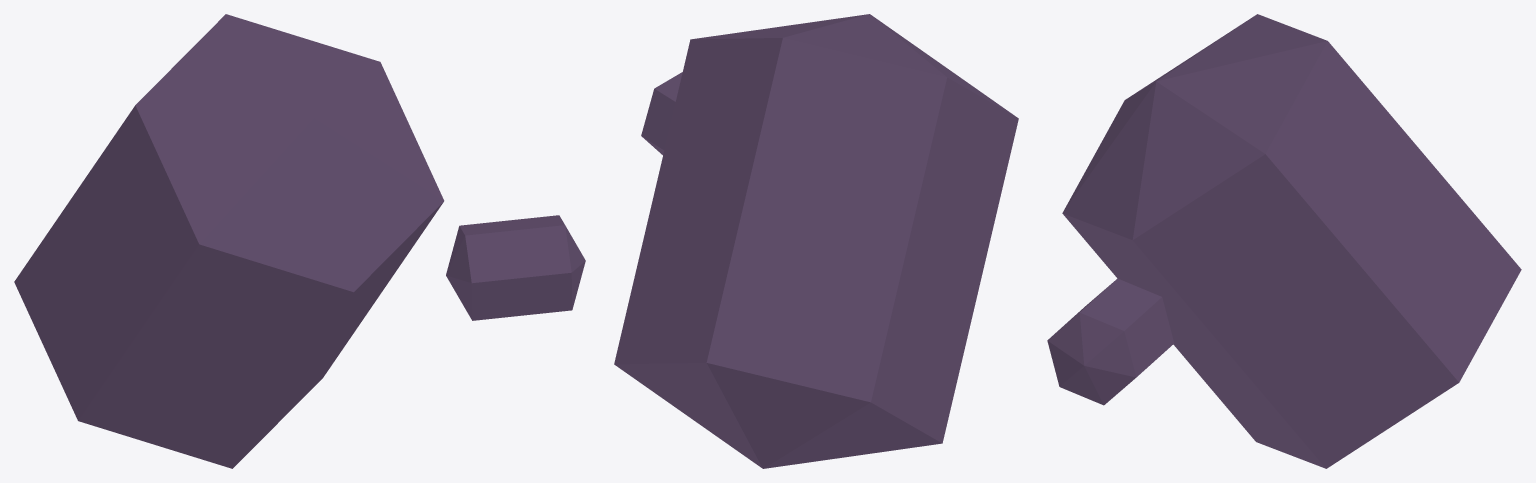
File: rocks.glb
The picture shows the model from 3 angles, left to right: view 1: azimuth 30°, elevation 25°; view 2: azimuth 150°, elevation 25°; view 3: azimuth 270°, elevation 25°; orthographic projection. The views are drawn at different scales.
Parts seen in each view (by area): view 1: rocks; view 2: rocks; view 3: rocks.
Part boxes in pixels (box(x1,y1,x2,y2)): rocks: box(14, 14, 585, 468); rocks: box(614, 14, 1018, 468); rocks: box(1047, 14, 1521, 468).
Size of the model in its own units: 1.35 by 1.39 by 1.44.
1 material, 1 textured.
